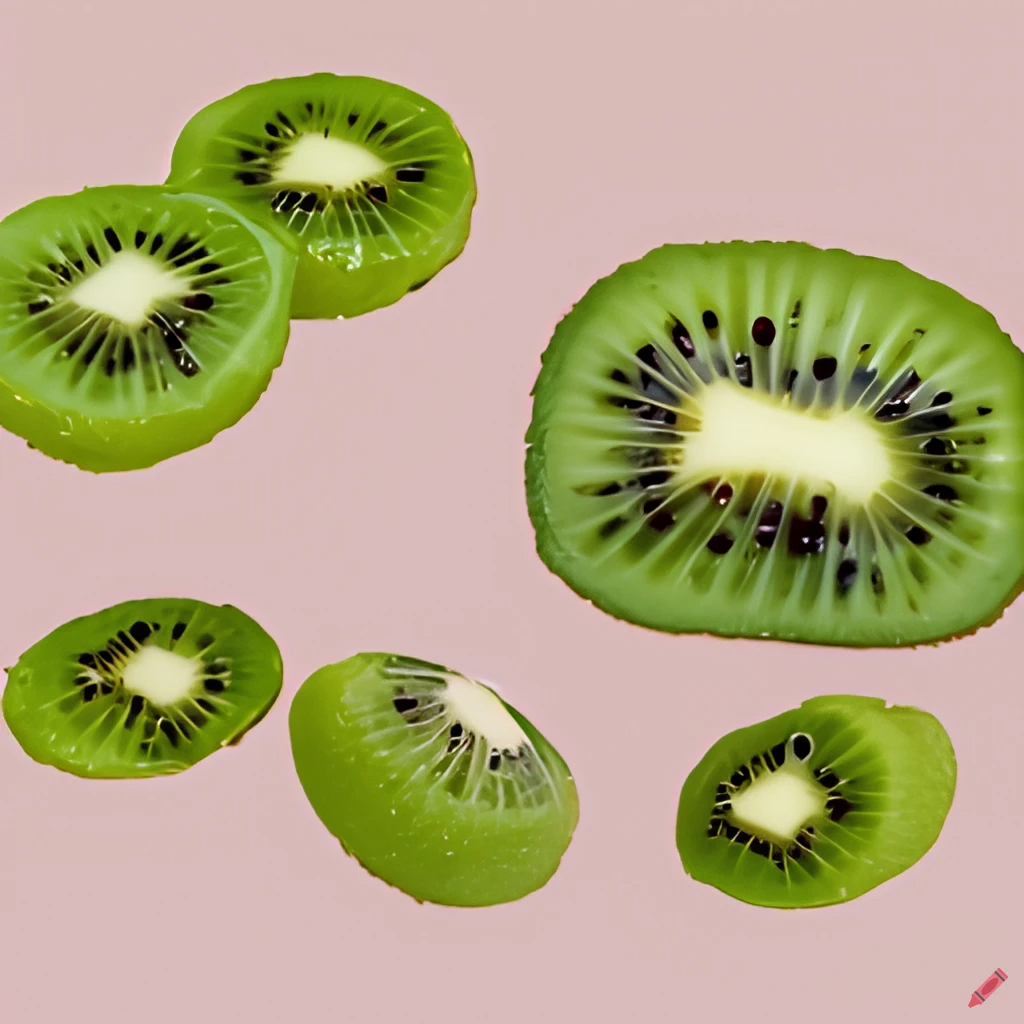Kiwi: (473, 205, 1024, 680)
